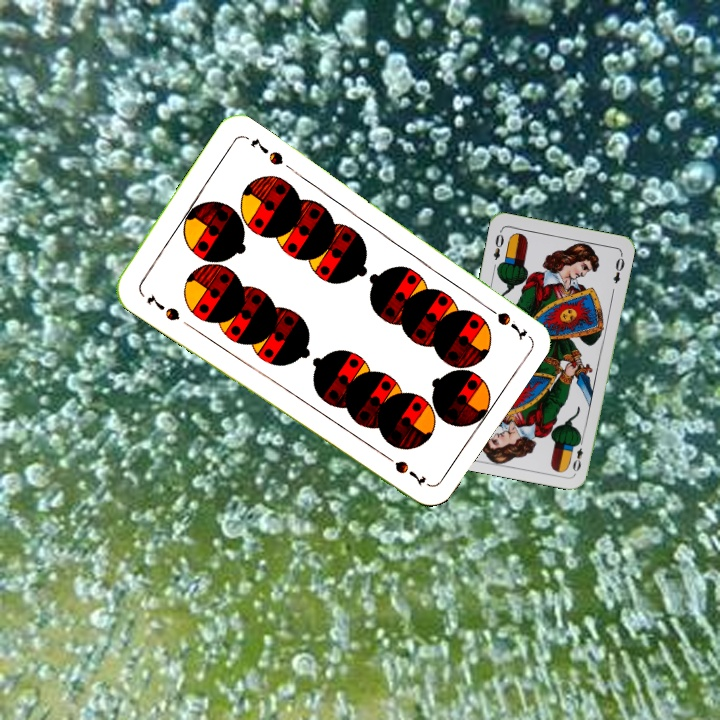EO: (569, 434, 586, 474), (489, 227, 506, 263)
S7: (478, 299, 530, 340), (142, 290, 182, 324)
